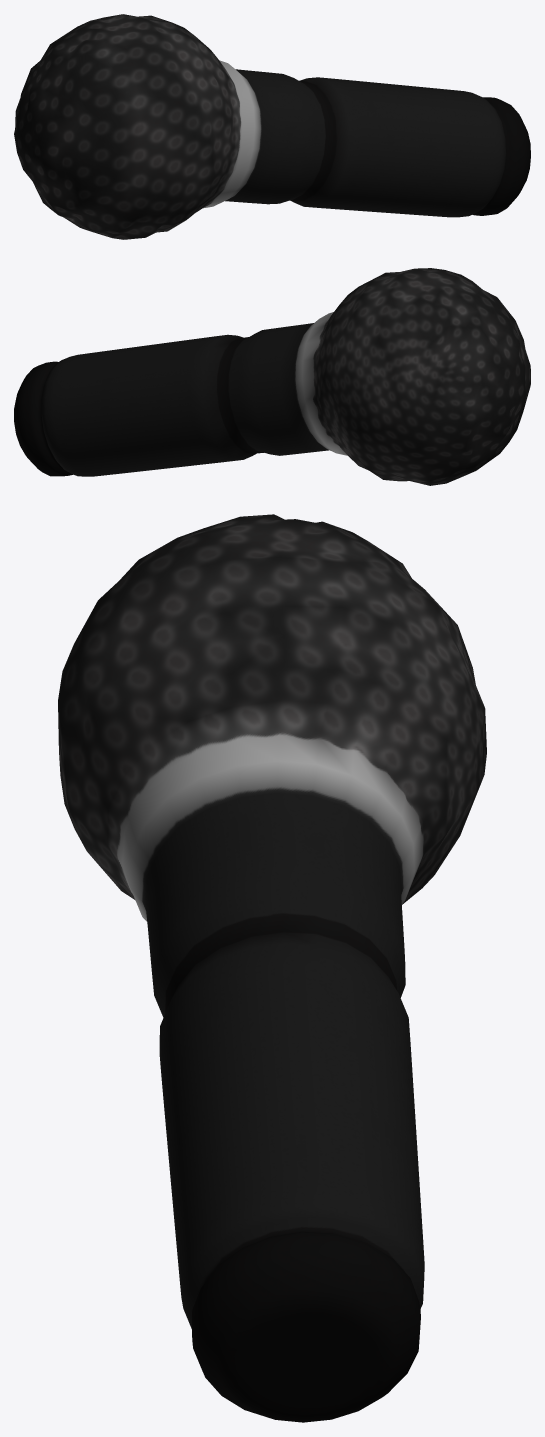
Rendered from DroptheMic1.glb.
3 renders of one model, top to bottom at view 1: azimuth 30°, elevation 25°; view 2: azimuth 150°, elevation 25°; view 3: azimuth 270°, elevation 25°, orthographic. The views are drawn at different scales.
Visible parts, largest first — view 1: DroptheMic1; view 2: DroptheMic1; view 3: DroptheMic1.
Boxes of the visible parts, x1,y1,x2,y2 form: DroptheMic1: [14, 14, 530, 239]; DroptheMic1: [14, 268, 530, 485]; DroptheMic1: [58, 514, 486, 1422].
Bounding box in the file's own units: 0.0056 × 0.00302 × 0.00216.
Materials: 1 (1 with a texture image).
